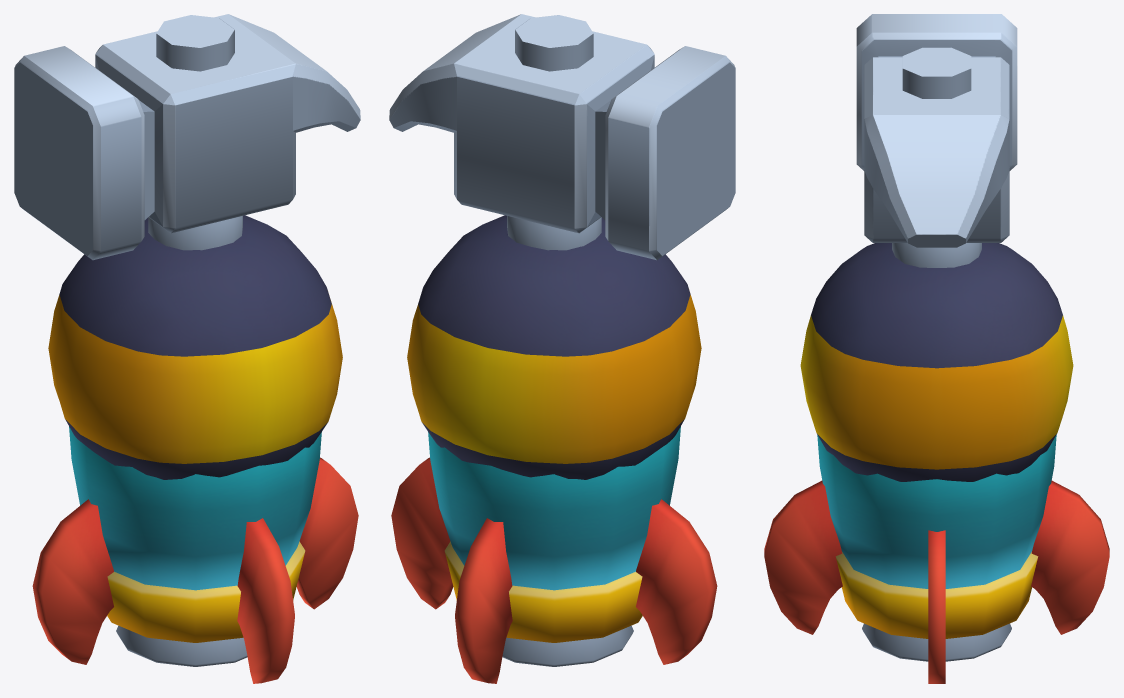
File: Booster.fbx
The picture shows the model from 3 angles, left to right: view 1: azimuth 30°, elevation 25°; view 2: azimuth 150°, elevation 25°; view 3: azimuth 270°, elevation 25°; orthographic projection. The views are drawn at different scales.
Visible parts, largest first — view 1: Boom, Bua, Rocket; view 2: Boom, Bua, Rocket; view 3: Boom, Rocket, Bua.
Boxes of the visible parts, <box> form: Boom: <box>48,215,342,479</box>; Bua: <box>14,14,360,260</box>; Rocket: <box>32,426,358,683</box>; Boom: <box>407,215,701,479</box>; Bua: <box>389,14,735,260</box>; Rocket: <box>391,426,717,683</box>; Boom: <box>800,243,1073,481</box>; Rocket: <box>764,435,1109,683</box>; Bua: <box>856,14,1017,247</box>.
Size of the model in its own units: 4.76 by 8.69 by 4.76.
